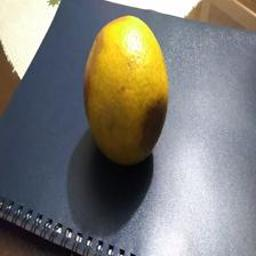Orange Semirotten: (75, 18, 180, 168)
